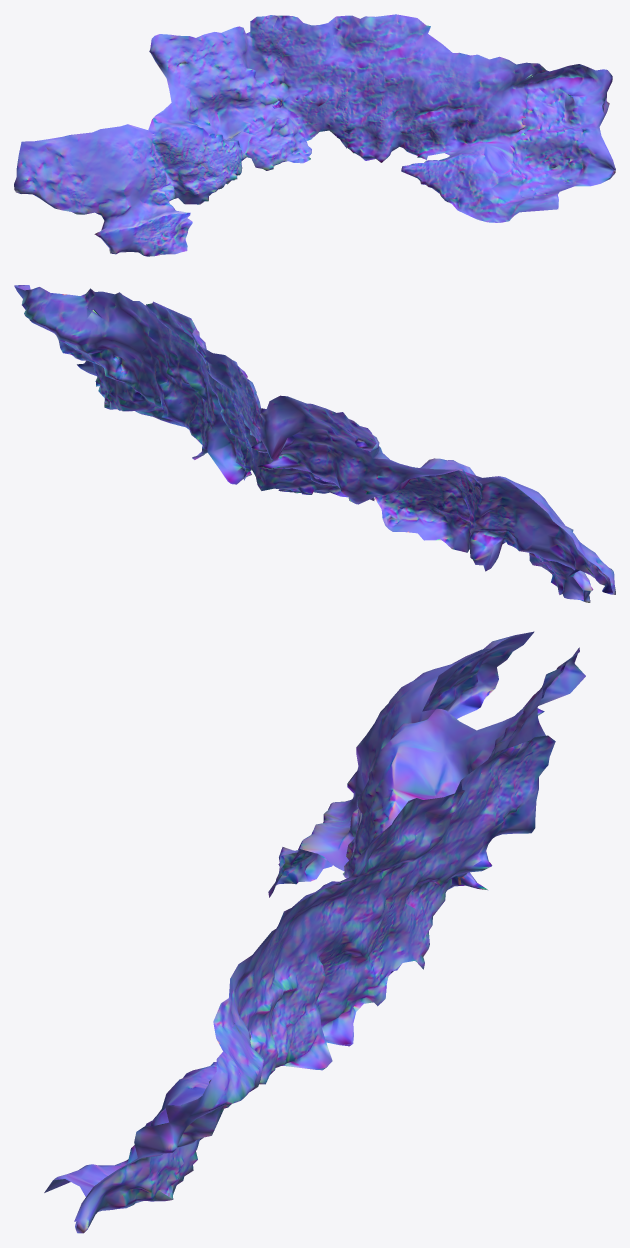
Rendered from RockFormation001 Moss Variant.fbx.
The picture shows the model from 3 angles, top to bottom: view 1: azimuth 30°, elevation 25°; view 2: azimuth 150°, elevation 25°; view 3: azimuth 270°, elevation 25°; orthographic projection. The views are drawn at different scales.
Visible parts, largest first — view 1: RockFormation01_LOD0; view 2: RockFormation01_LOD0; view 3: RockFormation01_LOD0.
Boxes of the visible parts, x1,y1,x2,y2 form: RockFormation01_LOD0: (14,14,615,256); RockFormation01_LOD0: (14,285,615,602); RockFormation01_LOD0: (44,631,585,1233).
Size of the model in its own units: 7218 by 2174 by 3262.
